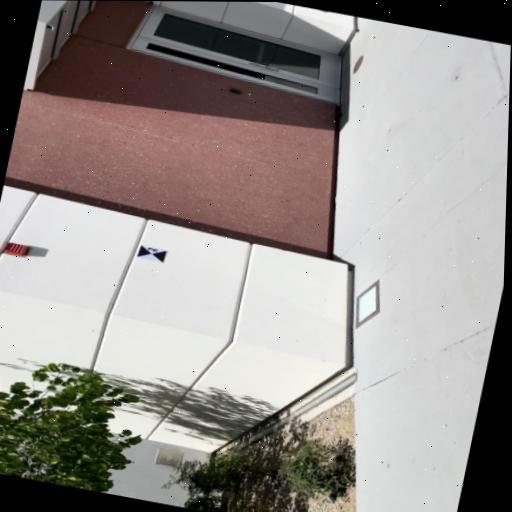target2: (136, 245, 167, 263)
